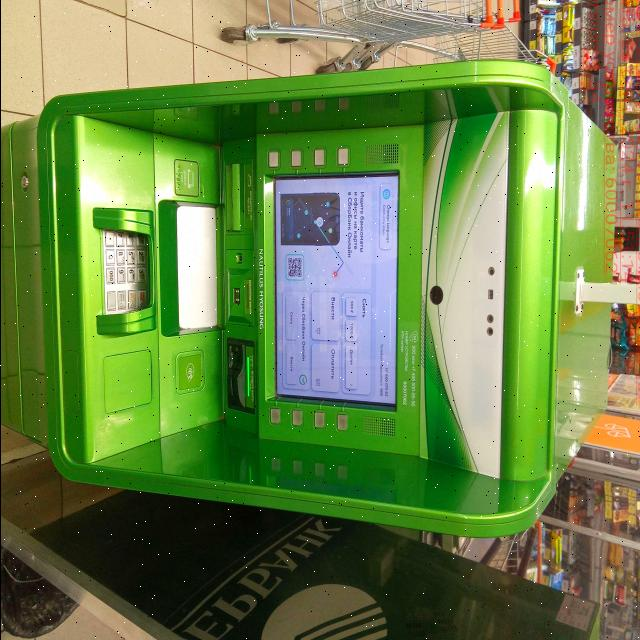bank: (0, 60, 617, 531), (0, 458, 601, 640)
